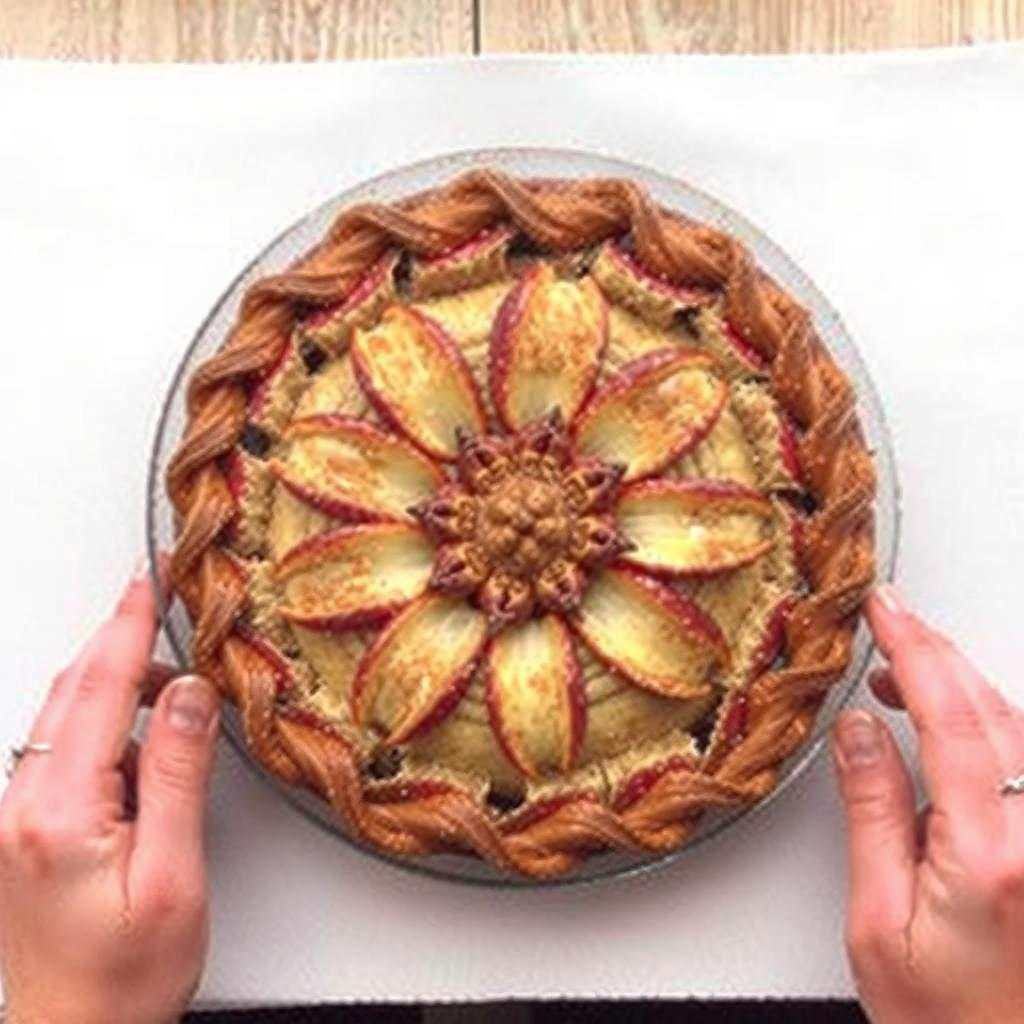pie: (157, 151, 887, 891)
